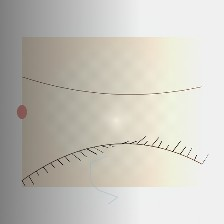foreign_body_visible: (104, 98, 135, 123)
